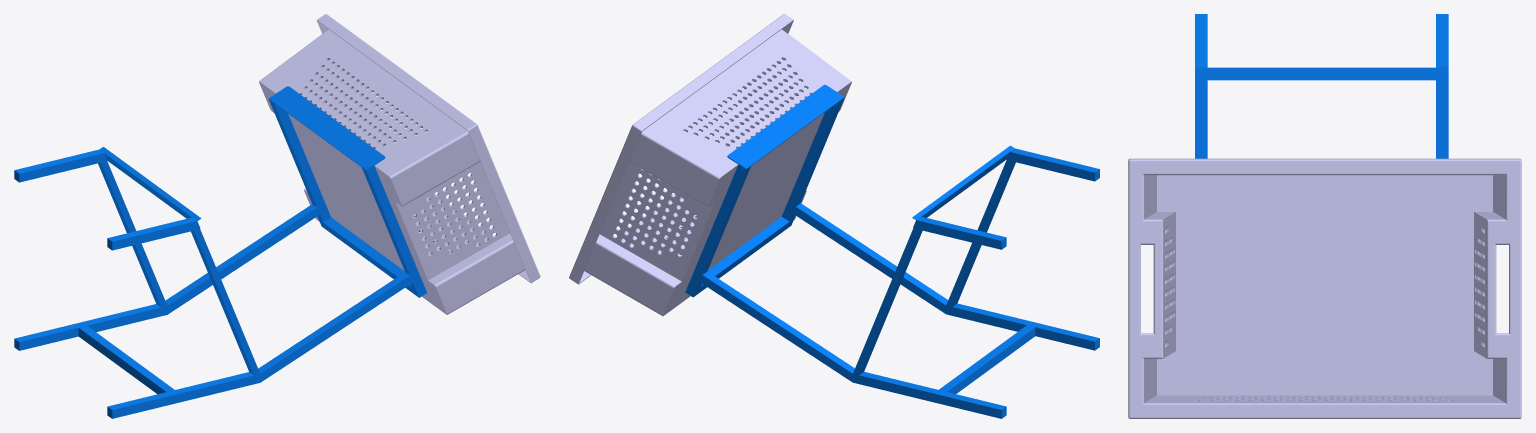
File: Bacs_assemblage_GLB.gltf
The picture shows the model from 3 angles, left to right: view 1: azimuth 30°, elevation 25°; view 2: azimuth 150°, elevation 25°; view 3: azimuth 270°, elevation 25°; orthographic projection. The views are drawn at different scales.
Parts seen in each view (by area): view 1: bacs, support_bacs, support_bacs001; view 2: bacs, support_bacs, support_bacs001; view 3: bacs, support_bacs001, support_bacs.
Part boxes in pixels (x1,y1,x2,y2): bacs: [259, 14, 540, 314]; support_bacs: [14, 86, 426, 418]; support_bacs001: [99, 147, 201, 228]; bacs: [569, 14, 851, 316]; support_bacs: [685, 84, 1099, 418]; support_bacs001: [912, 145, 1014, 227]; bacs: [1128, 158, 1521, 418]; support_bacs001: [1195, 67, 1448, 80]; support_bacs: [1195, 14, 1448, 158].
Bounding box in the file's own units: 0.9522 × 0.5203 × 0.62.
